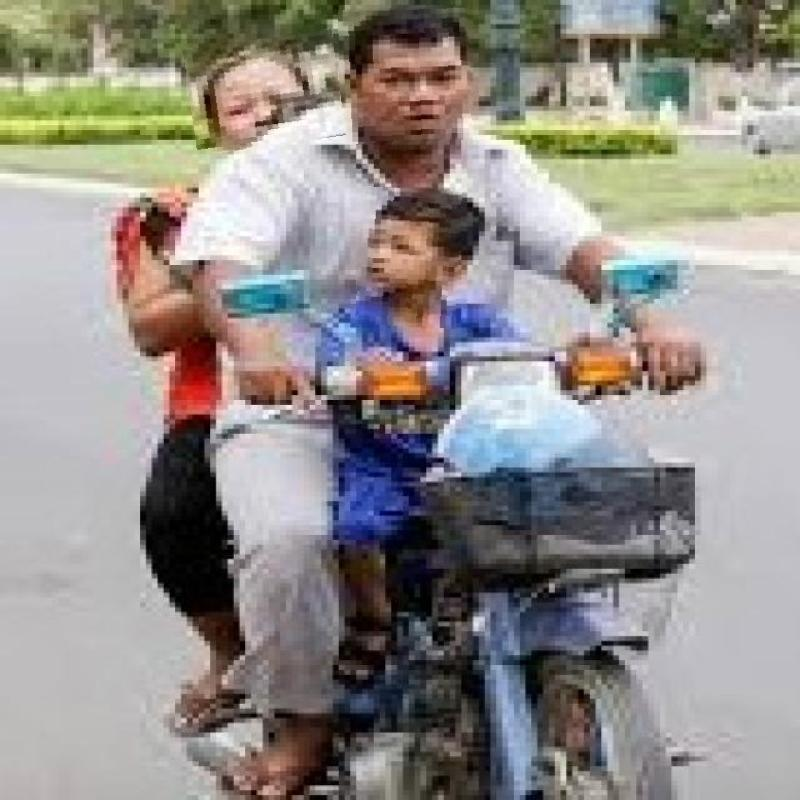nohelmet: (186, 34, 344, 151), (339, 7, 471, 144), (357, 188, 461, 328)
